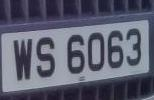0: (86, 28, 107, 76)
3: (125, 24, 144, 73)
6: (64, 29, 88, 80), (106, 26, 126, 75)
S: (33, 33, 58, 82)
W: (9, 33, 36, 84)
